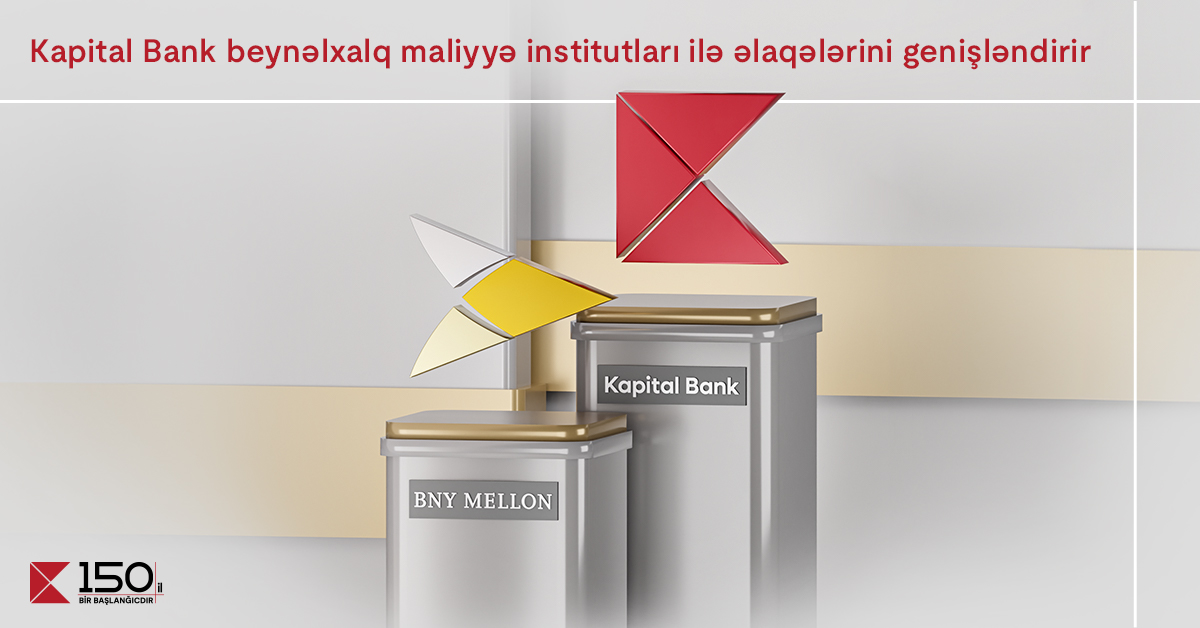Kapital Bank: (612, 87, 791, 266), (28, 560, 70, 605)
